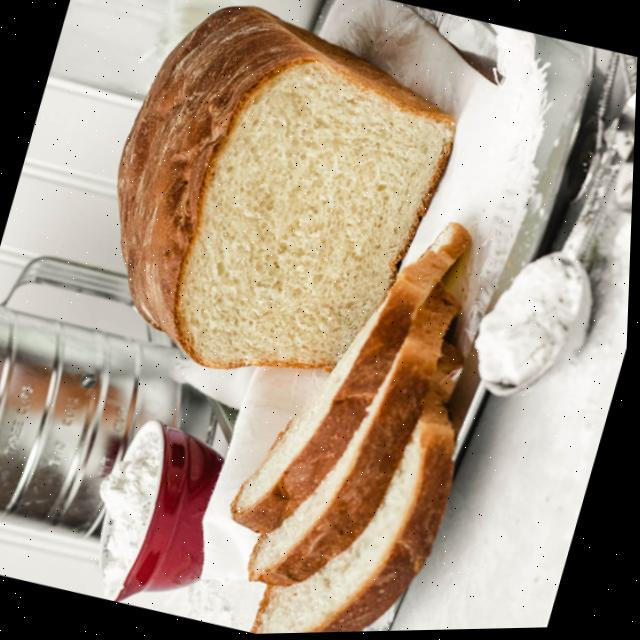Bread: (119, 6, 456, 370), (234, 224, 472, 533), (252, 284, 461, 586), (256, 399, 458, 635)
